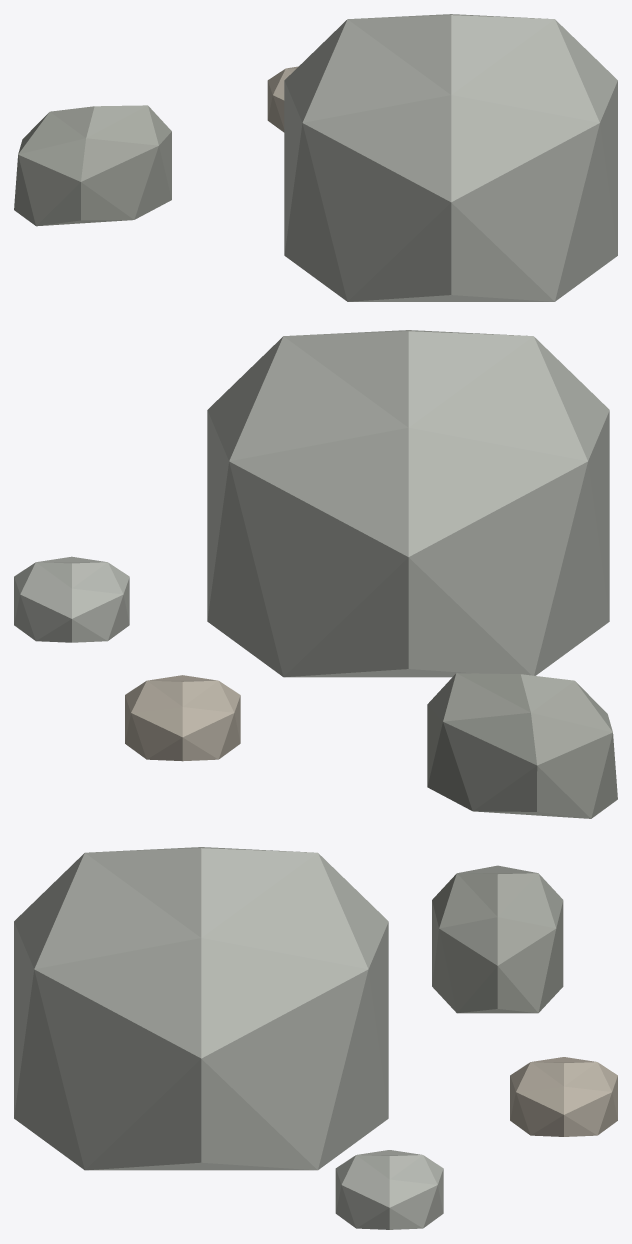
File: SM_Stone_02.fbx
The picture shows the model from 3 angles, top to bottom: view 1: azimuth 30°, elevation 25°; view 2: azimuth 150°, elevation 25°; view 3: azimuth 270°, elevation 25°; orthographic projection. The views are drawn at different scales.
Visible parts, largest first — view 1: SM_Stone_02; view 2: SM_Stone_02; view 3: SM_Stone_02.
Part boxes in pixels (x1,y1,x2,y2): SM_Stone_02: (14,14,617,301); SM_Stone_02: (14,330,617,818); SM_Stone_02: (14,847,617,1229).
Bounding box in the file's own units: 346 × 140 × 295.
1 material, 1 textured.
